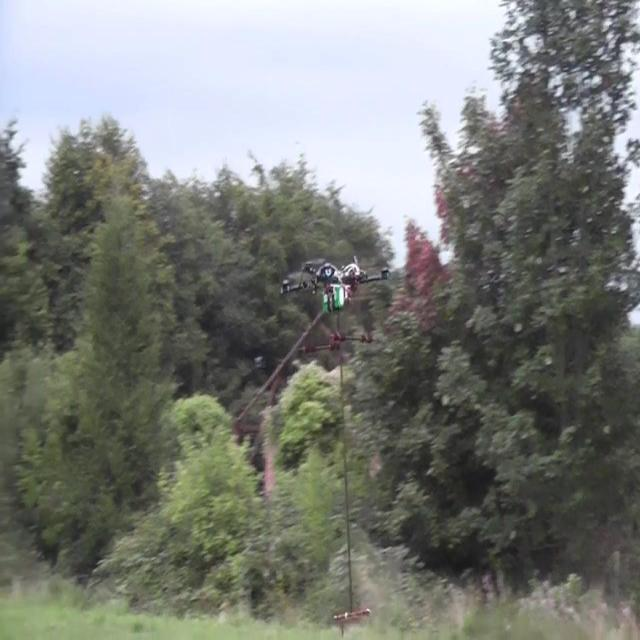drone: (280, 257, 390, 360)
